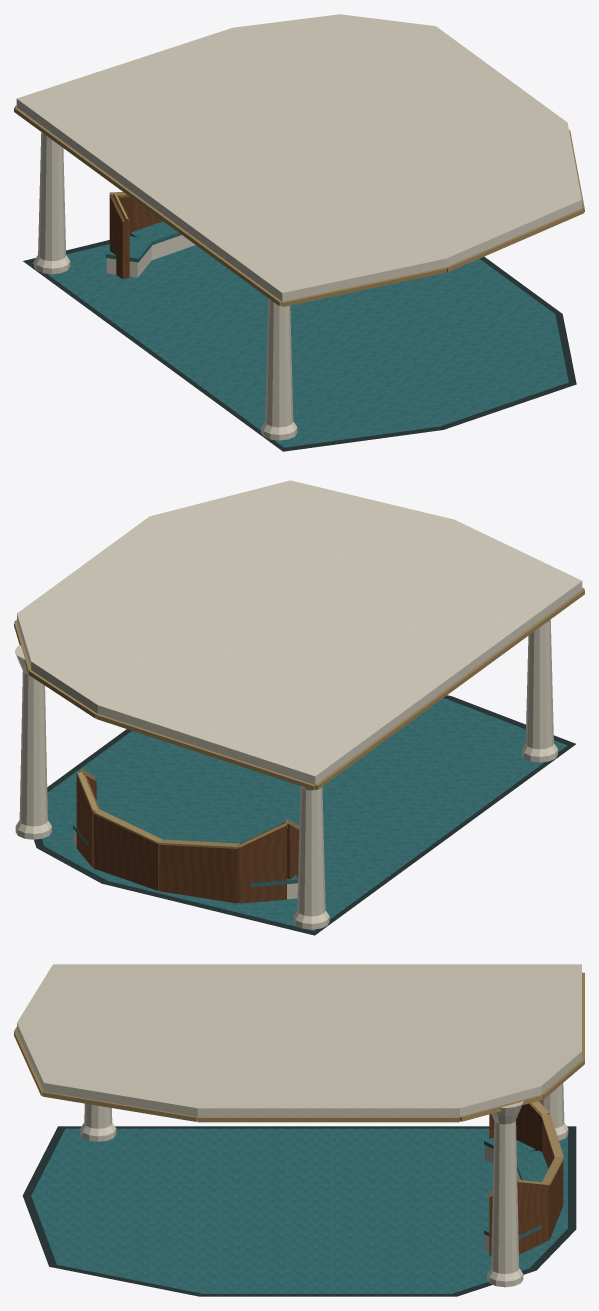
File: AST-AQU-014.glb
3 views of the same model, one above another, from view 1: azimuth 30°, elevation 25°; view 2: azimuth 150°, elevation 25°; view 3: azimuth 270°, elevation 25° (orthographic).
Visible parts, largest first — view 1: ARR_static_ivory_enamel, ARR_finish_wet_tile, ARR_static_champagne_metal, ARR_finish_grip, ARR_static_warm_walnut, ARR_static_wet_tile; view 2: ARR_static_ivory_enamel, ARR_finish_wet_tile, ARR_static_warm_walnut, ARR_static_champagne_metal, ARR_finish_grip; view 3: ARR_static_ivory_enamel, ARR_finish_wet_tile, ARR_finish_grip, ARR_static_champagne_metal, ARR_static_warm_walnut, ARR_static_wet_tile.
Boxes of the visible parts, left/top/right/bottom form: ARR_static_ivory_enamel: left=16, top=14, right=581, bottom=440; ARR_finish_wet_tile: left=32, top=244, right=568, bottom=447; ARR_static_champagne_metal: left=14, top=105, right=584, bottom=306; ARR_finish_grip: left=23, top=240, right=576, bottom=451; ARR_static_warm_walnut: left=109, top=195, right=162, bottom=279; ARR_static_wet_tile: left=106, top=221, right=181, bottom=262; ARR_static_ivory_enamel: left=15, top=480, right=582, bottom=929; ARR_finish_wet_tile: left=42, top=698, right=567, bottom=930; ARR_static_warm_walnut: left=76, top=773, right=299, bottom=903; ARR_static_champagne_metal: left=14, top=588, right=584, bottom=848; ARR_finish_grip: left=34, top=695, right=575, bottom=935; ARR_static_ivory_enamel: left=17, top=964, right=581, bottom=1287; ARR_finish_wet_tile: left=31, top=1128, right=567, bottom=1293; ARR_finish_grip: left=22, top=1126, right=576, bottom=1296; ARR_static_champagne_metal: left=14, top=972, right=584, bottom=1197; ARR_static_warm_walnut: left=489, top=1103, right=563, bottom=1256; ARR_static_wet_tile: left=484, top=1138, right=548, bottom=1239.
Size of the model in its own units: 9.23 by 4.65 by 12.63.
Materials: 6 (5 with a texture image).
